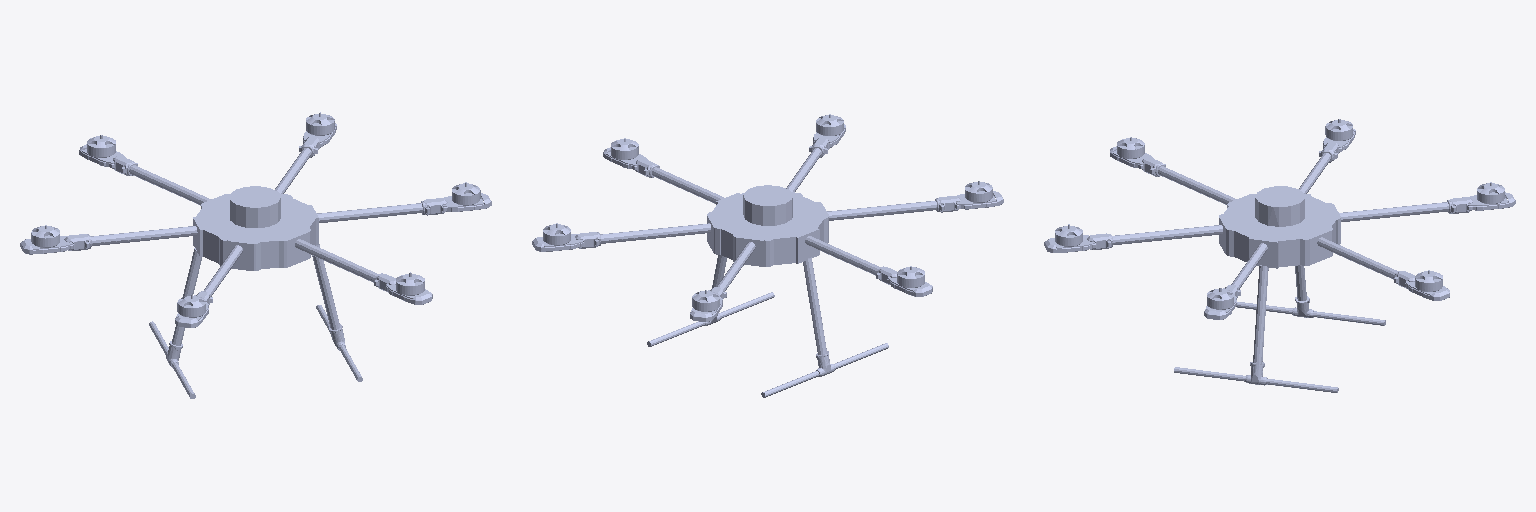
URDF robot description (uam-model):
<?xml version="1.0" encoding="utf-8"?>
<!-- This URDF was automatically created by SolidWorks to URDF Exporter! Originally created by [author] ([email redacted]) 
     Commit Version: 1.5.1-0-g916b5db  Build Version: 1.5.7152.31018
     For more information, please see http://wiki.ros.org/sw_urdf_exporter -->
<robot
  name="uam-model">
  <link
    name="base_link">
    <inertial>
      <origin
        xyz="0.00166311637966503 0.00229470040284394 4.09272781741391E-05"
        rpy="0 0 0" />
      <mass
        value="6.30842991010407" />
      <inertia
        ixx="0.0549370446155752"
        ixy="-2.27528746777029E-06"
        ixz="6.72062452380464E-07"
        iyy="0.0921711878743817"
        iyz="-4.49305748940149E-07"
        izz="0.0552674071334869" />
    </inertial>
    <visual>
      <origin
        xyz="0 0 0"
        rpy="0 0 0" />
      <geometry>
        <mesh
          filename="package://uam-model/meshes/base_link.STL" />
      </geometry>
      <material
        name="">
        <color
          rgba="0.792156862745098 0.819607843137255 0.933333333333333 1" />
      </material>
    </visual>
    <collision>
      <origin
        xyz="0 0 0"
        rpy="0 0 0" />
      <geometry>
        <mesh
          filename="package://uam-model/meshes/base_link.STL" />
      </geometry>
    </collision>
  </link>
  <link
    name="Prop1_link">
    <inertial>
      <origin
        xyz="-5.55111512312578E-17 0.0128323140532459 5.68989300120393E-15"
        rpy="0 0 0" />
      <mass
        value="0.0295951847814123" />
      <inertia
        ixx="0.000164359186503822"
        ixy="2.39693812306986E-19"
        ixz="-1.07447104605329E-05"
        iyy="0.000166384377923945"
        iyz="-1.70058798324791E-18"
        izz="2.76701246963403E-06" />
    </inertial>
    <visual>
      <origin
        xyz="0 0 0"
        rpy="0 0 0" />
      <geometry>
        <mesh
          filename="package://uam-model/meshes/Prop1_link.STL" />
      </geometry>
      <material
        name="">
        <color
          rgba="0.792156862745098 0.819607843137255 0.933333333333333 1" />
      </material>
    </visual>
    <collision>
      <origin
        xyz="0 0 0"
        rpy="0 0 0" />
      <geometry>
        <mesh
          filename="package://uam-model/meshes/Prop1_link.STL" />
      </geometry>
    </collision>
  </link>
  <joint
    name="prop1"
    type="continuous">
    <origin
      xyz="0 0.3048 -0.028957"
      rpy="-1.5708 0 -0.99636" />
    <parent
      link="base_link" />
    <child
      link="Prop1_link" />
    <axis
      xyz="0 1 0" />
  </joint>
  <link
    name="Prop2_link">
    <inertial>
      <origin
        xyz="0 0.0128323140532914 6.74460487459783E-15"
        rpy="0 0 0" />
      <mass
        value="0.0295951847850067" />
      <inertia
        ixx="0.000164359186504303"
        ixy="4.84258376314456E-19"
        ixz="-1.07447104605933E-05"
        iyy="0.000166384377924309"
        iyz="-1.23892182043495E-18"
        izz="2.76701246952207E-06" />
    </inertial>
    <visual>
      <origin
        xyz="0 0 0"
        rpy="0 0 0" />
      <geometry>
        <mesh
          filename="package://uam-model/meshes/Prop2_link.STL" />
      </geometry>
      <material
        name="">
        <color
          rgba="0.792156862745098 0.819607843137255 0.933333333333333 1" />
      </material>
    </visual>
    <collision>
      <origin
        xyz="0 0 0"
        rpy="0 0 0" />
      <geometry>
        <mesh
          filename="package://uam-model/meshes/Prop2_link.STL" />
      </geometry>
    </collision>
  </link>
  <joint
    name="prop2"
    type="continuous">
    <origin
      xyz="-0.3048 0 -0.028957"
      rpy="-1.5708 0 -0.77151" />
    <parent
      link="base_link" />
    <child
      link="Prop2_link" />
    <axis
      xyz="0 1 0" />
  </joint>
  <link
    name="Prop3_link">
    <inertial>
      <origin
        xyz="1.11022302462516E-16 0.0128323140532443 -4.56926163572291E-15"
        rpy="0 0 0" />
      <mass
        value="0.0295951847814117" />
      <inertia
        ixx="0.000164359186503818"
        ixy="-4.24513270978536E-18"
        ixz="-1.07447104605337E-05"
        iyy="0.000166384377923937"
        iyz="-5.20099951927419E-17"
        izz="2.76701246963677E-06" />
    </inertial>
    <visual>
      <origin
        xyz="0 0 0"
        rpy="0 0 0" />
      <geometry>
        <mesh
          filename="package://uam-model/meshes/Prop3_link.STL" />
      </geometry>
      <material
        name="">
        <color
          rgba="0.792156862745098 0.819607843137255 0.933333333333333 1" />
      </material>
    </visual>
    <collision>
      <origin
        xyz="0 0 0"
        rpy="0 0 0" />
      <geometry>
        <mesh
          filename="package://uam-model/meshes/Prop3_link.STL" />
      </geometry>
    </collision>
  </link>
  <joint
    name="prop3"
    type="continuous">
    <origin
      xyz="0 -0.3048 -0.028957"
      rpy="-1.5708 0 1.6037" />
    <parent
      link="base_link" />
    <child
      link="Prop3_link" />
    <axis
      xyz="0 1 0" />
  </joint>
  <link
    name="Prop4_link">
    <inertial>
      <origin
        xyz="1.94289029309402E-16 0.012832314053245 2.77555756156289E-15"
        rpy="0 0 0" />
      <mass
        value="0.029595184781413" />
      <inertia
        ixx="0.000164359186503821"
        ixy="9.14572349787417E-19"
        ixz="-1.07447104605337E-05"
        iyy="0.000166384377923945"
        iyz="-2.56372540597711E-18"
        izz="2.76701246963237E-06" />
    </inertial>
    <visual>
      <origin
        xyz="0 0 0"
        rpy="0 0 0" />
      <geometry>
        <mesh
          filename="package://uam-model/meshes/Prop4_link.STL" />
      </geometry>
      <material
        name="">
        <color
          rgba="0.792156862745098 0.819607843137255 0.933333333333333 1" />
      </material>
    </visual>
    <collision>
      <origin
        xyz="0 0 0"
        rpy="0 0 0" />
      <geometry>
        <mesh
          filename="package://uam-model/meshes/Prop4_link.STL" />
      </geometry>
    </collision>
  </link>
  <joint
    name="prop4"
    type="continuous">
    <origin
      xyz="0.3048 0 -0.028957"
      rpy="-1.5708 0 1.0336" />
    <parent
      link="base_link" />
    <child
      link="Prop4_link" />
    <axis
      xyz="0 1 0" />
  </joint>
  <link
    name="Manip_base_link">
    <inertial>
      <origin
        xyz="-0.0148835833074758 0.0553106952147659 -0.00439958262246139"
        rpy="0 0 0" />
      <mass
        value="0.589826220232128" />
      <inertia
        ixx="0.00187518407031447"
        ixy="0.000235040613216589"
        ixz="-5.03554400382576E-05"
        iyy="0.00140261940314784"
        iyz="0.000210555699440173"
        izz="0.00146401627722415" />
    </inertial>
    <visual>
      <origin
        xyz="0 0 0"
        rpy="0 0 0" />
      <geometry>
        <mesh
          filename="package://uam-model/meshes/Manip_base_link.STL" />
      </geometry>
      <material
        name="">
        <color
          rgba="0.792156862745098 0.819607843137255 0.933333333333333 1" />
      </material>
    </visual>
    <collision>
      <origin
        xyz="0 0 0"
        rpy="0 0 0" />
      <geometry>
        <mesh
          filename="package://uam-model/meshes/Manip_base_link.STL" />
      </geometry>
    </collision>
  </link>
  <joint
    name="manip_base"
    type="continuous">
    <origin
      xyz="0 0 -0.09398"
      rpy="-1.5708 0 -2.3131" />
    <parent
      link="base_link" />
    <child
      link="Manip_base_link" />
    <axis
      xyz="0 1 0" />
  </joint>
  <link
    name="Inter_link">
    <inertial>
      <origin
        xyz="-7.76642278475792E-06 -0.12010737514249 0.0087239438148208"
        rpy="0 0 0" />
      <mass
        value="0.448594169690817" />
      <inertia
        ixx="0.00301348297707412"
        ixy="-2.14028474157563E-07"
        ixz="2.95794558044342E-08"
        iyy="0.000232635680344767"
        iyz="-2.61207807060706E-08"
        izz="0.00310390576848532" />
    </inertial>
    <visual>
      <origin
        xyz="0 0 0"
        rpy="0 0 0" />
      <geometry>
        <mesh
          filename="package://uam-model/meshes/Inter_link.STL" />
      </geometry>
      <material
        name="">
        <color
          rgba="0.792156862745098 0.819607843137255 0.933333333333333 1" />
      </material>
    </visual>
    <collision>
      <origin
        xyz="0 0 0"
        rpy="0 0 0" />
      <geometry>
        <mesh
          filename="package://uam-model/meshes/Inter_link.STL" />
      </geometry>
    </collision>
  </link>
  <joint
    name="inter"
    type="revolute">
    <origin
      xyz="0 0.10055 -0.027837"
      rpy="1.5708 -0.95138 1.5708" />
    <parent
      link="Manip_base_link" />
    <child
      link="Inter_link" />
    <axis
      xyz="0 0 1" />
    <limit
      lower="-1"
      upper="1"
      effort="0"
      velocity="0" />
  </joint>
  <link
    name="End_link">
    <inertial>
      <origin
        xyz="-7.26838809920194E-05 0.0761929887760256 -0.0383403847772621"
        rpy="0 0 0" />
      <mass
        value="0.45551656730505" />
      <inertia
        ixx="0.00203566630254163"
        ixy="3.3641195178534E-06"
        ixz="8.9711545531675E-08"
        iyy="0.000353093049496674"
        iyz="-2.9633340175993E-05"
        izz="0.00214759941922202" />
    </inertial>
    <visual>
      <origin
        xyz="0 0 0"
        rpy="0 0 0" />
      <geometry>
        <mesh
          filename="package://uam-model/meshes/End_link.STL" />
      </geometry>
      <material
        name="">
        <color
          rgba="0.792156862745098 0.819607843137255 0.933333333333333 1" />
      </material>
    </visual>
    <collision>
      <origin
        xyz="0 0 0"
        rpy="0 0 0" />
      <geometry>
        <mesh
          filename="package://uam-model/meshes/End_link.STL" />
      </geometry>
    </collision>
  </link>
  <joint
    name="end"
    type="revolute">
    <origin
      xyz="0 -0.24 0"
      rpy="0 0 2.0574" />
    <parent
      link="Inter_link" />
    <child
      link="End_link" />
    <axis
      xyz="0 0 1" />
    <limit
      lower="-1"
      upper="1"
      effort="0"
      velocity="0" />
  </joint>
</robot>

--- Facts derived from the render (not from the file) ---
Views: 3 orthographic renders of the robot side by side, from view 1: azimuth 30°, elevation 25°; view 2: azimuth 150°, elevation 25°; view 3: azimuth 270°, elevation 25°.
Model uam-model with 8 links and 7 joints (2 revolute, 5 continuous), rooted at base_link, posed all joints at 0.
Links seen in each view (by area): view 1: base_link; view 2: base_link; view 3: base_link.
Boxes of the visible links, x1,y1,x2,y2 form: base_link: [20, 112, 491, 398]; base_link: [532, 114, 1003, 397]; base_link: [1044, 119, 1515, 392].
Size in the robot's own frame: 0.7392 by 0.776 by 0.2794 metres.
1 mesh visuals loaded from 8 distinct referenced files (1 binary STL); not drawn: 7 (reference not matched to a file when rendering).